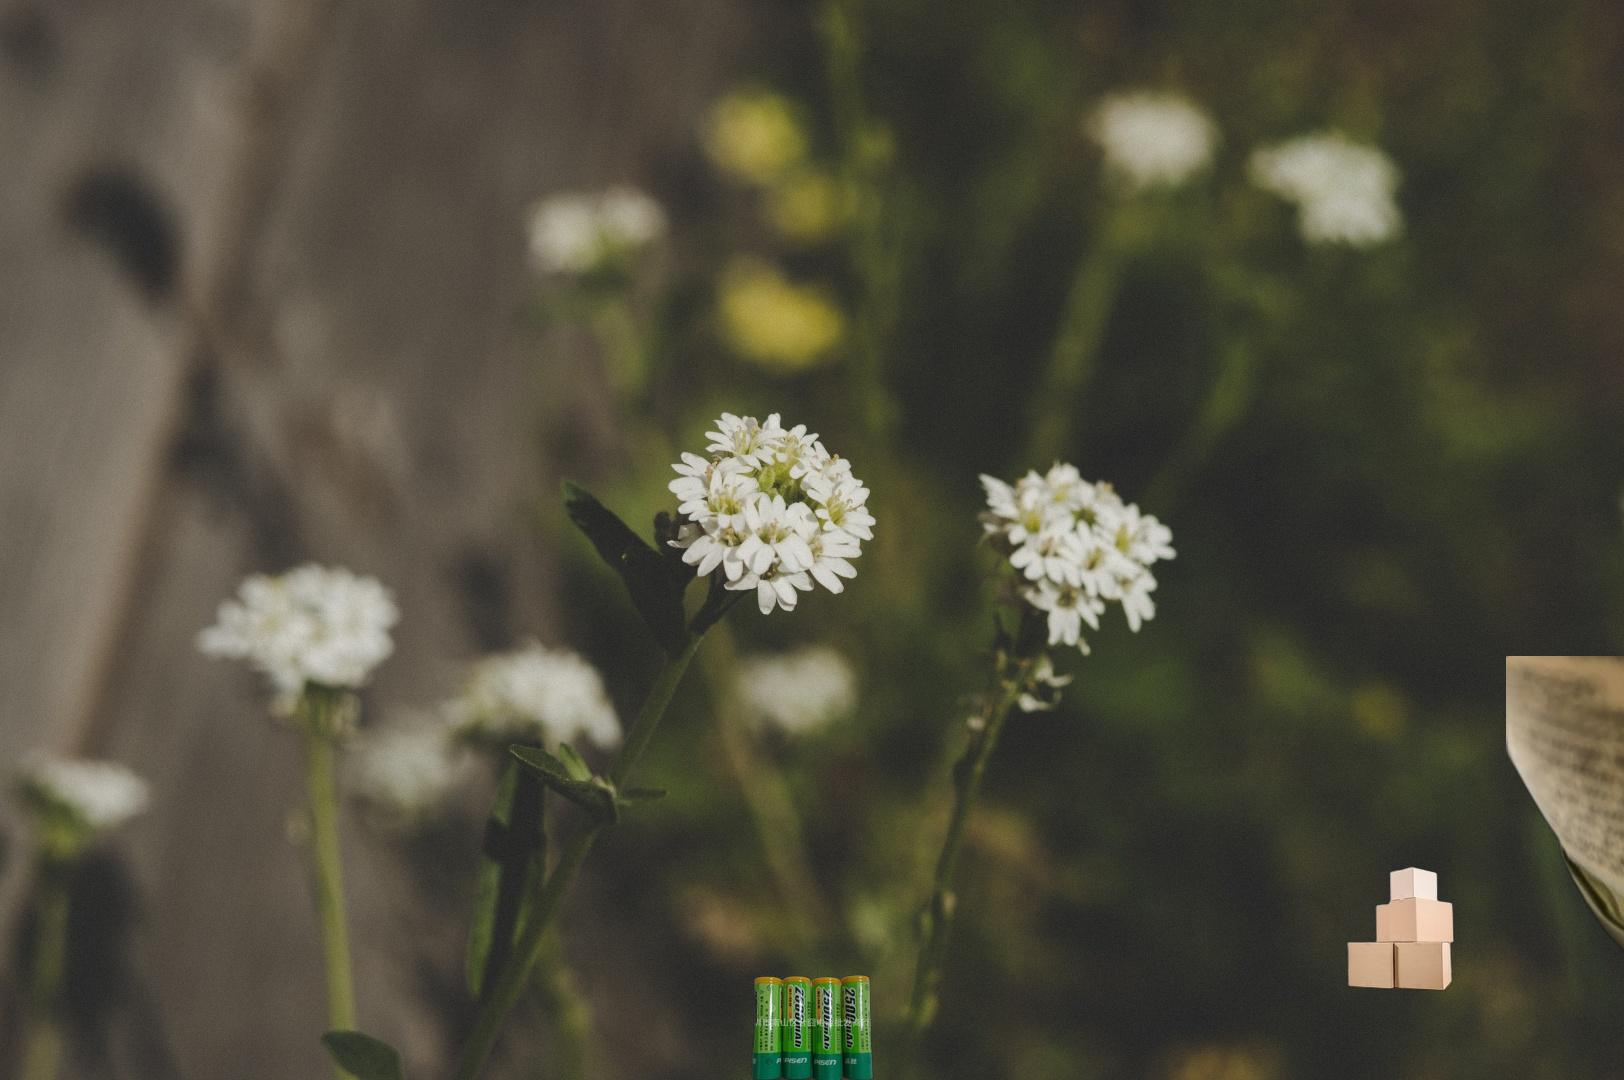battery: (748, 972, 876, 1080)
glass: (1506, 656, 1624, 1003)
trashbox-cardboard: (1343, 864, 1457, 993)
